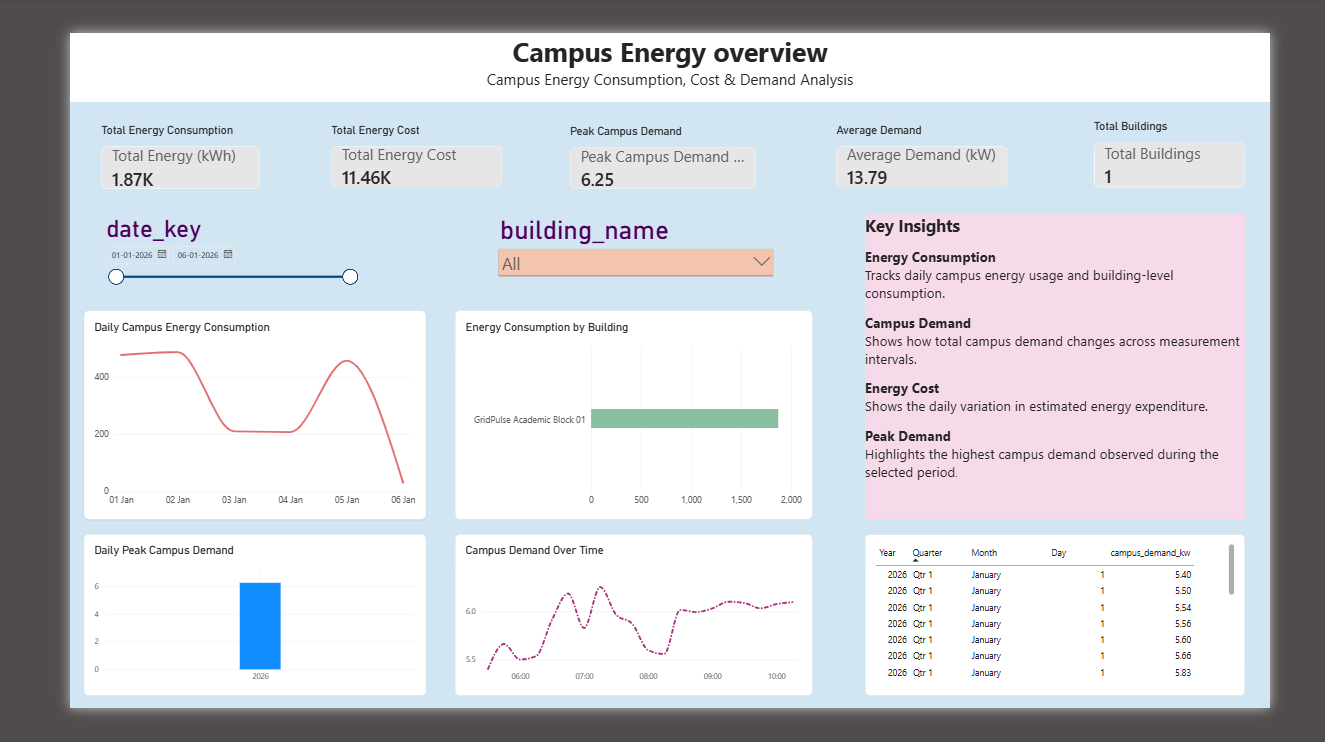

The page's visual inventory and layout, read from the dashboard file:
{"tool":"powerbi","page":{"name":"Page 1","canvas":[1920,1080],"ordinal":0},"visuals":[{"type":"cardVisual","title":"Total Energy Cost","fields":{"Data":["agg_building_consumption_daily.Total Energy Cost"]},"box":[418,144,274,102],"z":0},{"type":"cardVisual","title":"Peak Campus Demand","fields":{"Data":["agg_building_consumption_daily.Peak Campus Demand (kW)"]},"box":[800,146,298,104],"z":1000},{"type":"cardVisual","title":"Average Demand","fields":{"Data":["agg_building_consumption_daily.Average Demand (kW)"]},"box":[1226,144,274,102],"z":2000},{"type":"cardVisual","title":"Total Energy Consumption","fields":{"Data":["agg_building_consumption_daily.Total Energy (kWh)"]},"box":[50,144,254,106],"z":3000},{"type":"cardVisual","title":"Total Buildings","fields":{"Data":["agg_building_consumption_daily.Total Buildings"]},"box":[1638,138,242.5,110.4],"z":4000},{"type":"lineChart","title":"Daily Campus Energy Consumption","fields":{"Y":["agg_building_consumption_daily.Total Energy (kWh)"],"Category":["dim_date.date_key.Variation.Date Hierarchy.Year","dim_date.date_key.Variation.Date Hierarchy.Quarter","dim_date.date_key.Variation.Date Hierarchy.Month","dim_date.date_key.Variation.Date Hierarchy.Day"]},"box":[22,444,548,334],"z":5000},{"type":"clusteredBarChart","title":"Energy Consumption by Building","fields":{"Category":["dim_building.building_name"],"Y":["agg_building_consumption_daily.Total Energy (kWh)"]},"box":[616,444,572,334],"z":6000},{"type":"lineChart","title":"Campus Demand Over Time","fields":{"Category":["agg_peak_load_interval.interval_ts"],"Y":["Sum(agg_peak_load_interval.campus_demand_kw)"]},"box":[616,802,572,258],"z":7000},{"type":"tableEx","fields":{"Values":["agg_peak_load_interval.interval_ts.Variation.Date Hierarchy.Year","agg_peak_load_interval.interval_ts.Variation.Date Hierarchy.Quarter","agg_peak_load_interval.interval_ts.Variation.Date Hierarchy.Month","agg_peak_load_interval.interval_ts.Variation.Date Hierarchy.Day","agg_peak_load_interval.campus_demand_kw"]},"box":[1272,802,608,258],"z":9000},{"type":"slicer","fields":{"Values":["dim_date.date_key"]},"box":[50,290,414,234],"z":10000},{"type":"slicer","fields":{"Values":["dim_building.building_name"]},"box":[680,290,450.6,124.9],"z":11000},{"type":"textbox","box":[0,0,1920,110],"z":13000},{"type":"clusteredColumnChart","title":"Daily Peak Campus Demand","fields":{"Category":["agg_peak_load_interval.date_key"],"Y":["agg_building_consumption_daily.Peak Campus Demand"]},"box":[22,802,548,258],"z":14000},{"type":"textbox","box":[1272,290,608,488],"z":14001}]}

Visuals, with their boxes in screenshot pixels (x1, y1, x2, y2), scaled from the page's 1920x1080 canvas onto the 1325x742 screenshot:
"Total Energy Cost" cardVisual: bbox(288, 99, 478, 169)
"Peak Campus Demand" cardVisual: bbox(552, 100, 758, 172)
"Average Demand" cardVisual: bbox(846, 99, 1035, 169)
"Total Energy Consumption" cardVisual: bbox(35, 99, 210, 172)
"Total Buildings" cardVisual: bbox(1130, 95, 1298, 171)
"Daily Campus Energy Consumption" lineChart: bbox(15, 305, 393, 535)
"Energy Consumption by Building" clusteredBarChart: bbox(425, 305, 820, 535)
"Campus Demand Over Time" lineChart: bbox(425, 551, 820, 728)
tableEx - agg_peak_load_interval.interval_ts.Variation.Date Hierarchy.Year x agg_peak_load_interval.interval_ts.Variation.Date Hierarchy.Quarter: bbox(878, 551, 1297, 728)
slicer - dim_date.date_key: bbox(35, 199, 320, 360)
slicer - dim_building.building_name: bbox(469, 199, 780, 285)
textbox: bbox(0, 0, 1324, 76)
"Daily Peak Campus Demand" clusteredColumnChart: bbox(15, 551, 393, 728)
textbox: bbox(878, 199, 1297, 535)
